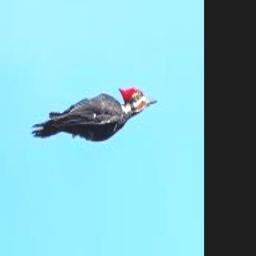Woodpecker: (30, 85, 156, 142)
